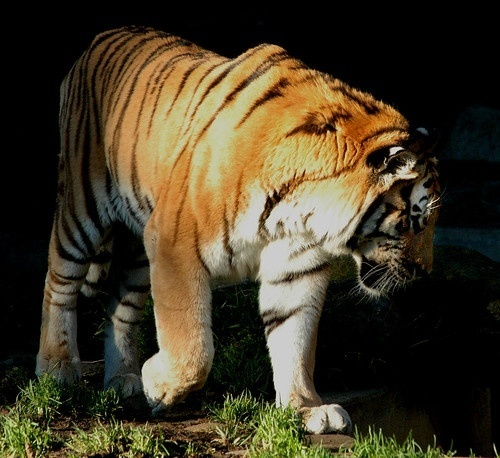tigre: (34, 25, 450, 431)
